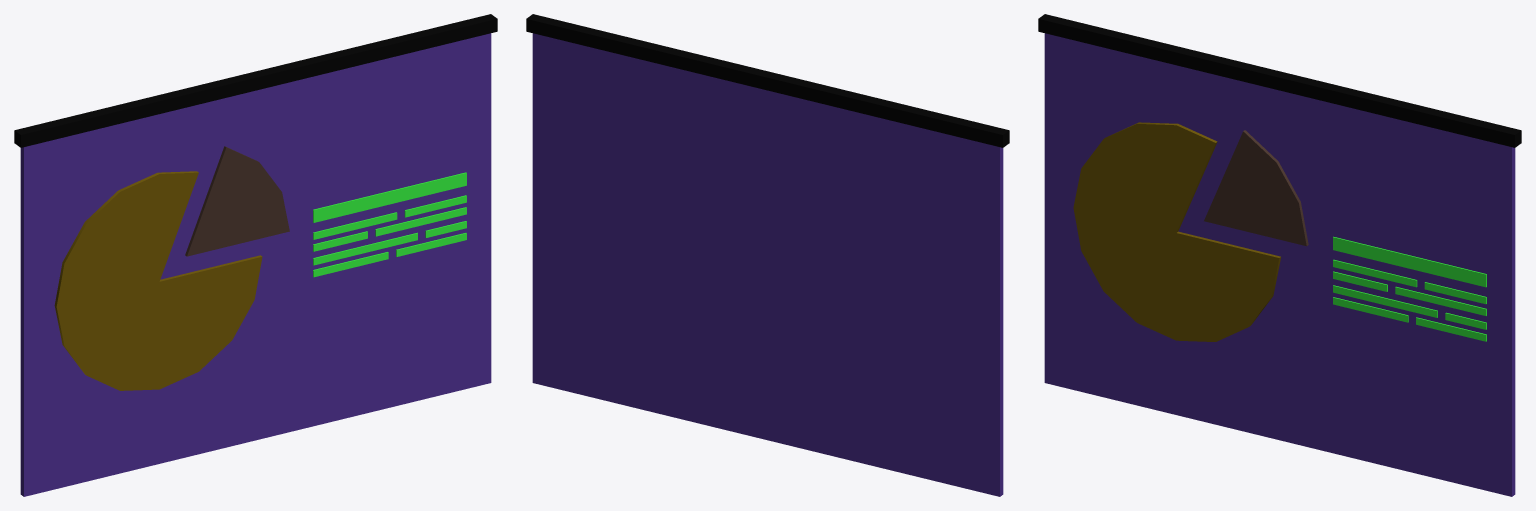
Rendered from projectorscreen.fbx.
The picture shows the model from 3 angles, left to right: view 1: azimuth 30°, elevation 25°; view 2: azimuth 150°, elevation 25°; view 3: azimuth 330°, elevation 25°; orthographic projection.
Parts seen in each view (by area): view 1: projectorscreen; view 2: projectorscreen; view 3: projectorscreen.
Boxes of the visible parts, <box> form: projectorscreen: <box>14,14,497,496</box>; projectorscreen: <box>526,14,1009,496</box>; projectorscreen: <box>1038,14,1521,496</box>.
Size of the model in its own units: 166 by 121 by 4.15.
